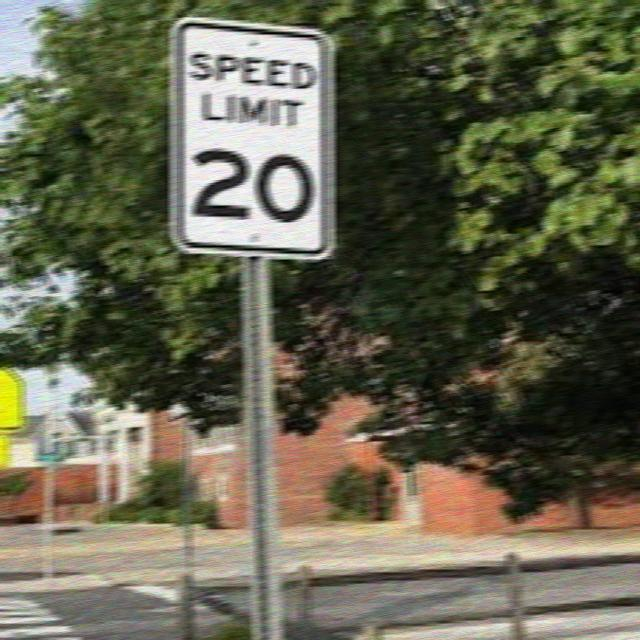speedLimit20: (166, 16, 340, 263)
